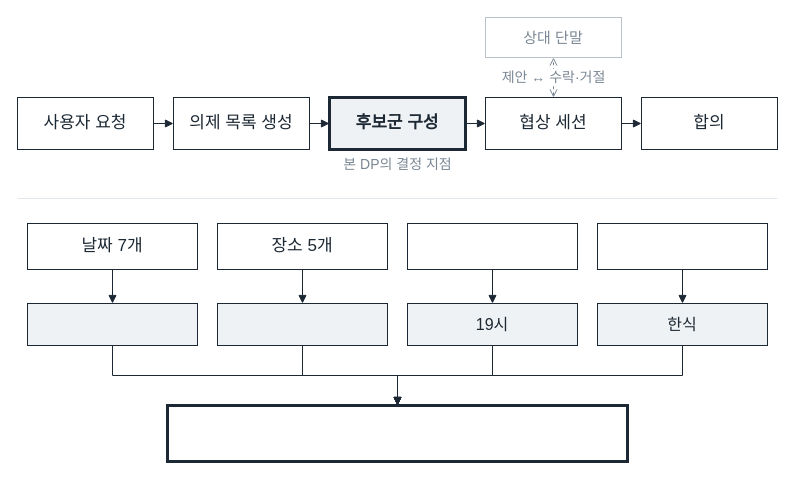
This 795x480 diagram has some shape labels left out. The shapes that lost their labels are listed below. From the top down, each one's centre as x and y in pixels, then its label:
At (492,246): "시간 8개".
At (682,246): "식당 6개".
At (112,324): "금요일".
At (302,324): "강남".
At (397,433): "후보 1개 · 전체 7 × 5 × 8 × 6 = 1,680개".
